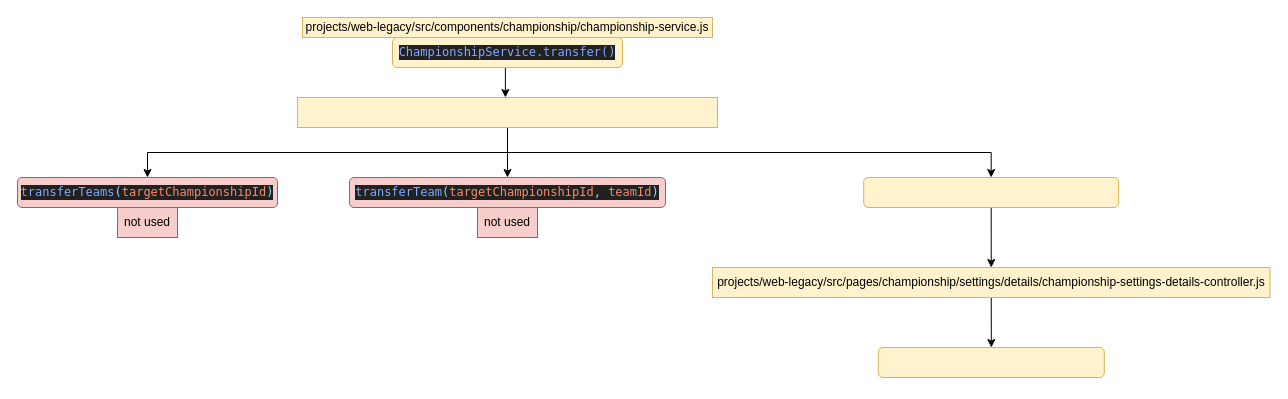
Image size: 1288x399. Some labels were removed from this diagram. The shapes that lost their labels are listed below. From the top down, each one's box as (x1, y1, x2, y2) in pixels, then its label:
(296, 96, 718, 128): projects/web-legacy/src/pages/championship/current-championship-service.js
(863, 176, 1119, 208): importTeams ( sourceChampionshipId )
(877, 346, 1104, 378): this . _importTeams . bind ( this )
